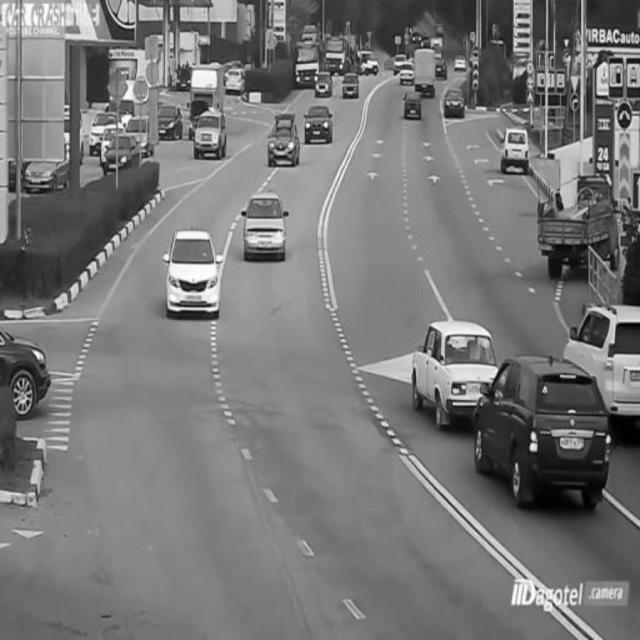vehicle: (482, 353, 606, 527), (401, 317, 495, 425), (539, 172, 622, 282), (576, 300, 640, 418), (168, 224, 220, 322), (0, 324, 54, 418), (245, 194, 287, 264), (265, 111, 302, 172), (196, 107, 228, 163), (301, 101, 336, 146), (500, 125, 530, 175), (294, 37, 321, 91), (106, 128, 140, 170), (412, 49, 440, 100), (157, 104, 184, 150), (403, 86, 425, 126), (446, 82, 468, 122), (313, 67, 335, 97), (342, 71, 360, 99), (396, 61, 420, 81)
